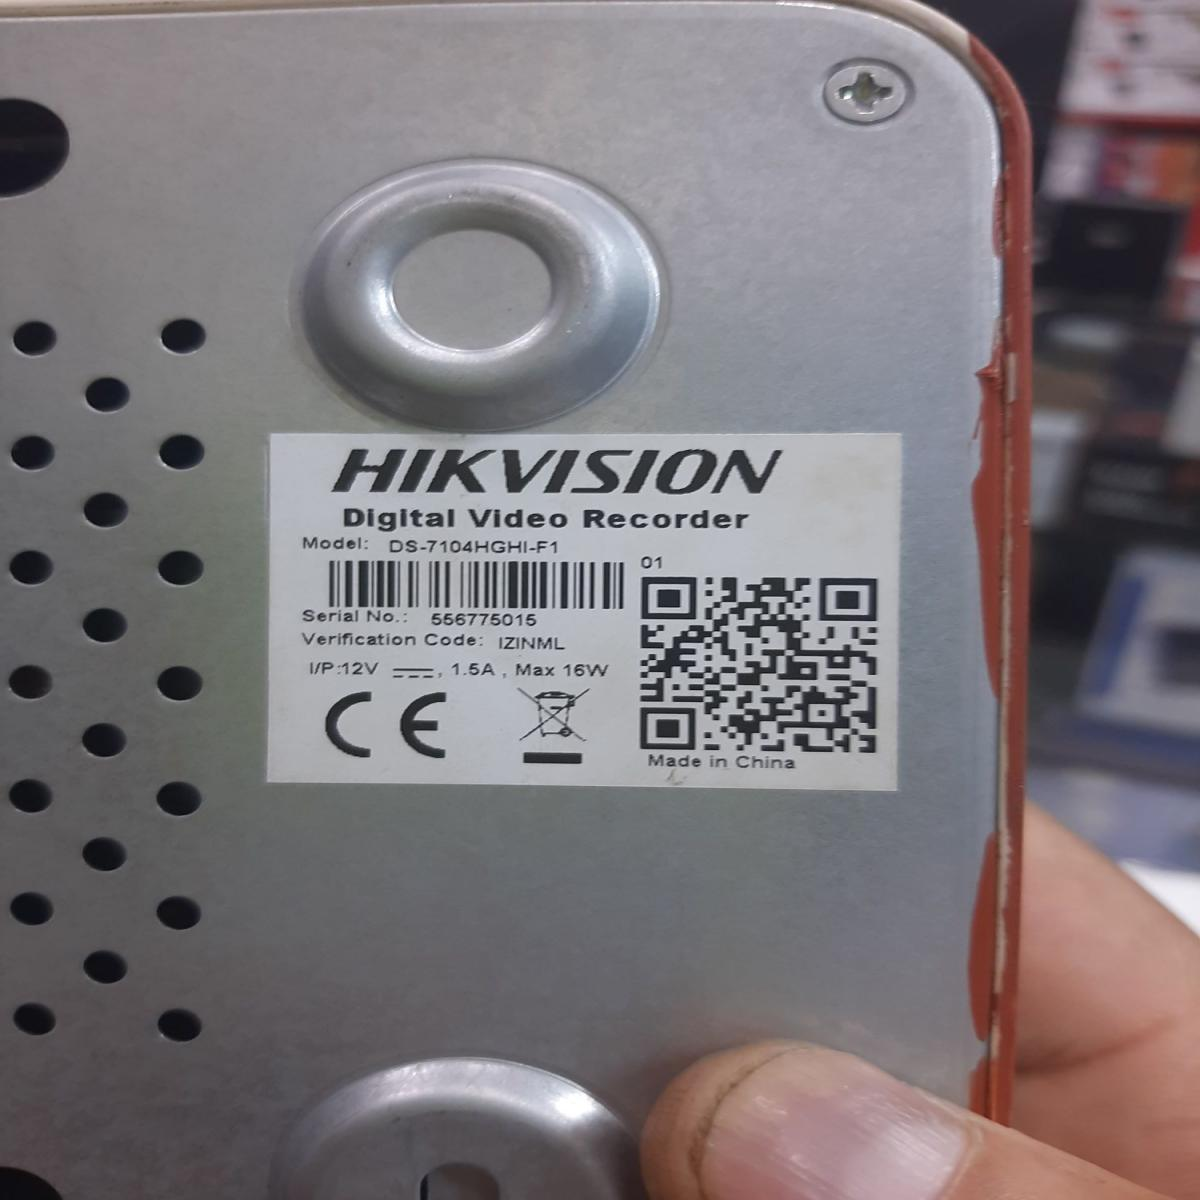Barcode: (309, 552, 637, 620)
Label: (273, 436, 893, 790)
